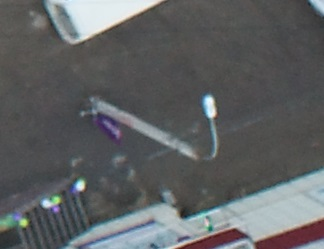opora: (93, 92, 219, 162)
